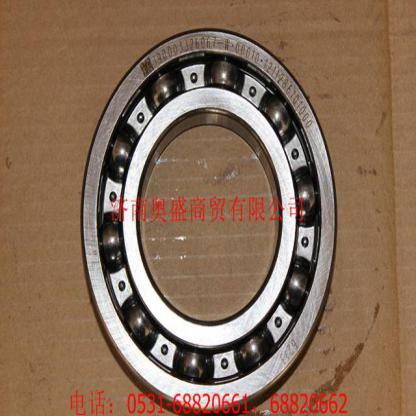FOD: (76, 22, 342, 415)
